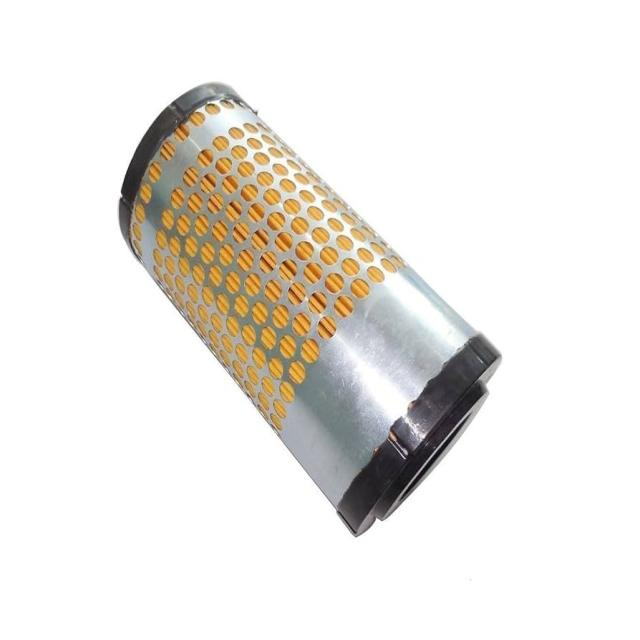oil_filter: (110, 72, 504, 542)
